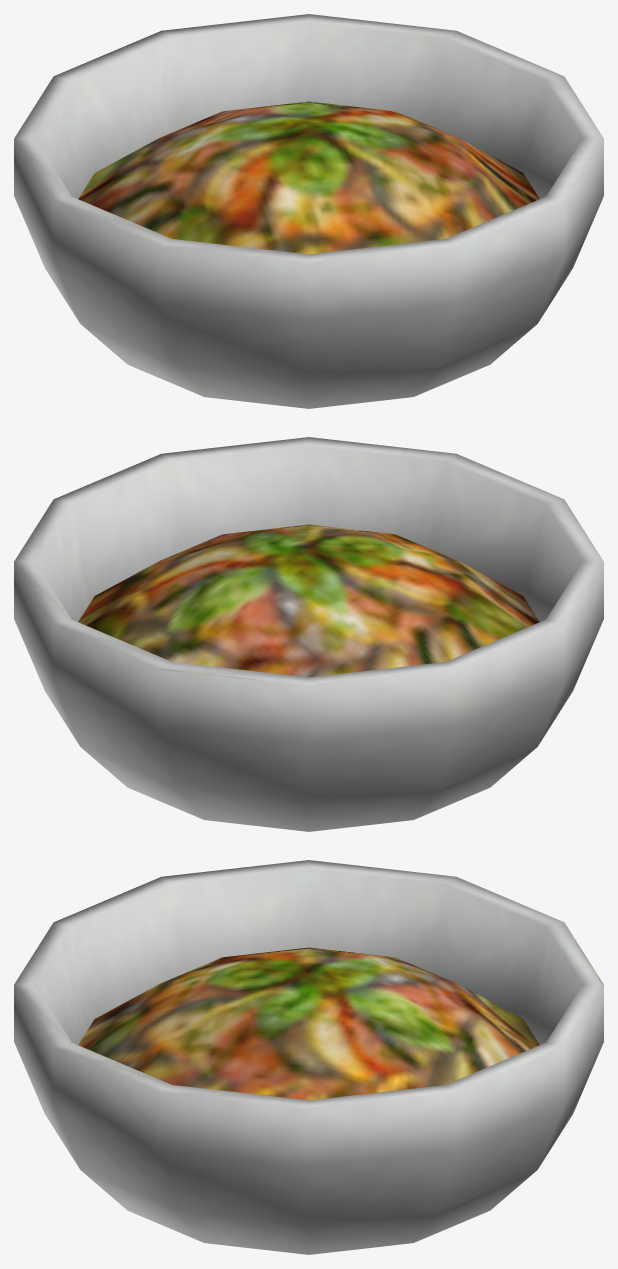
The model's file is bowl_03.obj.
3 renders of one model, top to bottom at view 1: azimuth 30°, elevation 25°; view 2: azimuth 150°, elevation 25°; view 3: azimuth 270°, elevation 25°, orthographic.
Parts seen in each view (by area): view 1: bowl.03; view 2: bowl.03; view 3: bowl.03.
Boxes of the visible parts, bbox=[...] form: bowl.03: bbox=[14, 14, 603, 408]; bowl.03: bbox=[14, 437, 603, 831]; bowl.03: bbox=[14, 860, 603, 1254].
Size of the model in its own units: 0.2772 by 0.1138 by 0.2772.
